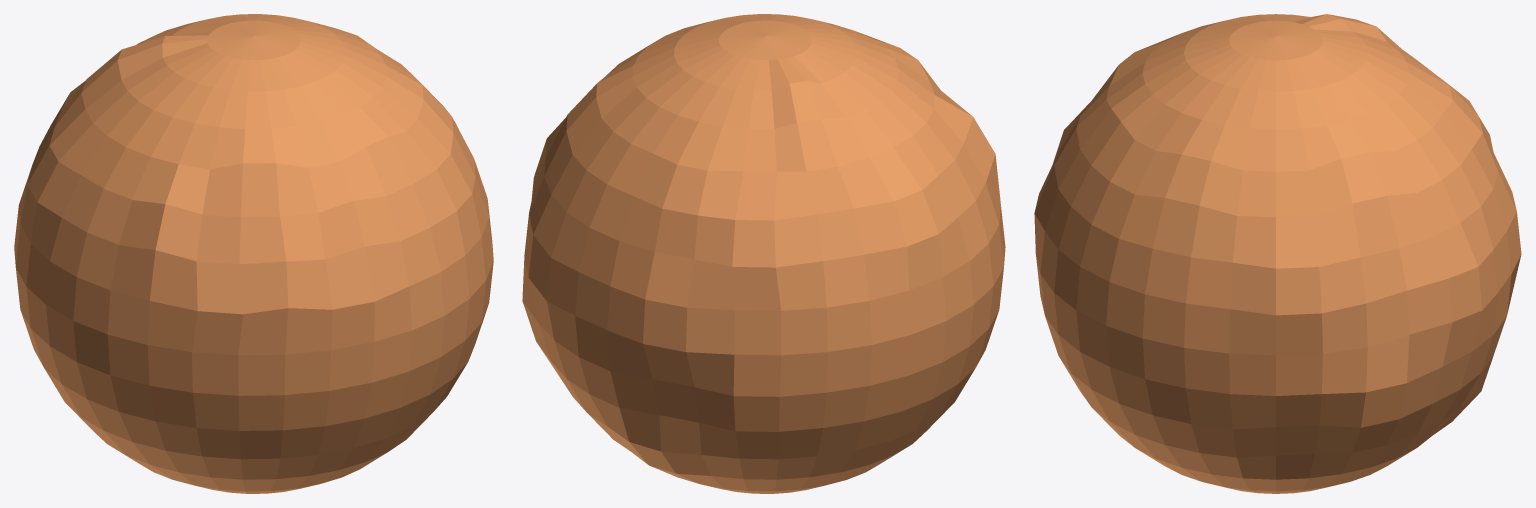
File: planet-with-sun.glb
3 views of the same model, side by side, from view 1: azimuth 30°, elevation 25°; view 2: azimuth 150°, elevation 25°; view 3: azimuth 270°, elevation 25° (orthographic).
Visible parts, largest first — view 1: Sphere; view 2: Sphere; view 3: Sphere.
Boxes of the visible parts, x1=… form: Sphere: x1=14, y1=14, x2=493, y2=493; Sphere: x1=522, y1=14, x2=1005, y2=493; Sphere: x1=1034, y1=14, x2=1521, y2=493.
Bounding box in the file's own units: 2.02 × 2 × 2.03.
